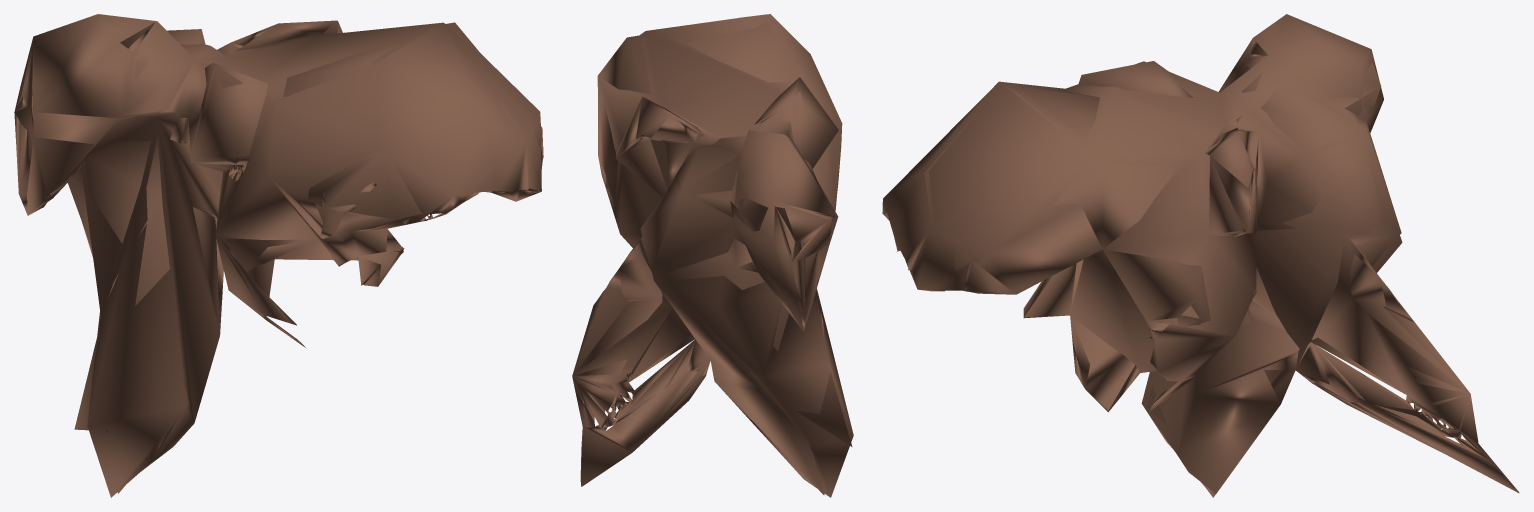
Rendered from Hair_tied_LOD1.glb.
The picture shows the model from 3 angles, left to right: view 1: azimuth 30°, elevation 25°; view 2: azimuth 150°, elevation 25°; view 3: azimuth 270°, elevation 25°; orthographic projection. The views are drawn at different scales.
Parts seen in each view (by area): view 1: Hair_tied_LOD1; view 2: Hair_tied_LOD1; view 3: Hair_tied_LOD1.
Part boxes in pixels (x1,y1,x2,y2): Hair_tied_LOD1: (14, 14, 543, 497); Hair_tied_LOD1: (572, 14, 853, 497); Hair_tied_LOD1: (882, 14, 1519, 497).
Size of the model in its own units: 0.3356 by 0.3935 by 0.4507.
